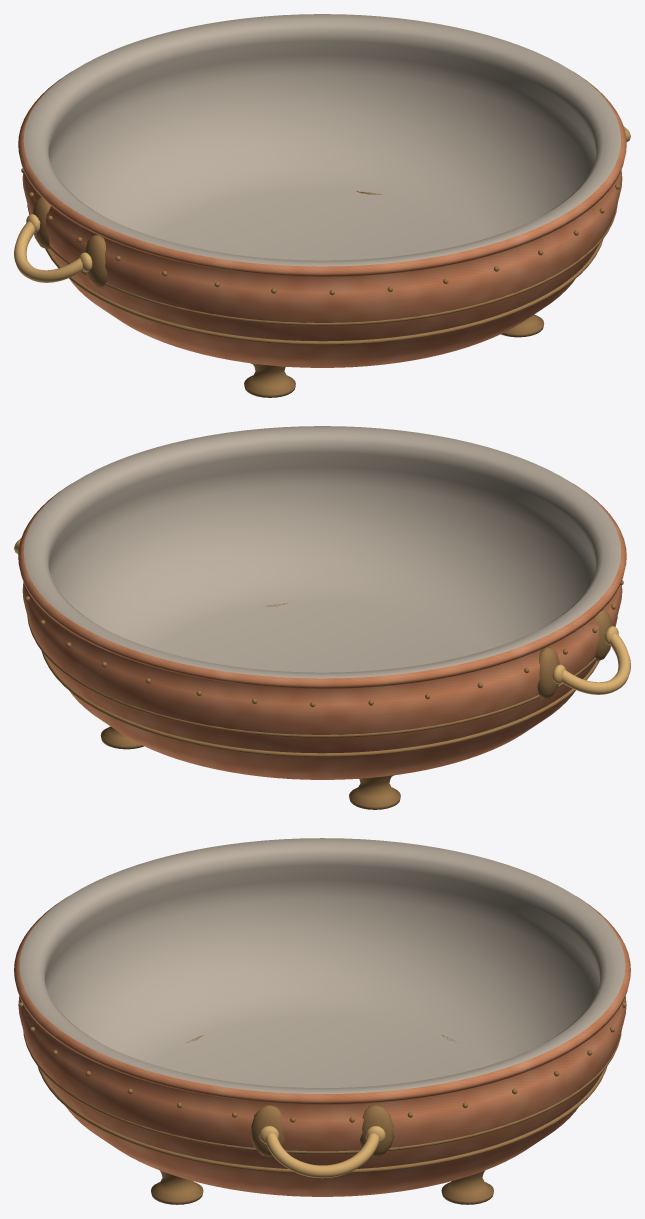
The model's file is bath-copper.glb.
3 views of the same model, one above another, from view 1: azimuth 30°, elevation 25°; view 2: azimuth 150°, elevation 25°; view 3: azimuth 270°, elevation 25° (orthographic).
Visible parts, largest first — view 1: Copper bath; view 2: Copper bath; view 3: Copper bath.
Part boxes in pixels (x1=…): Copper bath: x1=14, y1=14, x2=630, y2=397; Copper bath: x1=14, y1=426, x2=630, y2=809; Copper bath: x1=14, y1=838, x2=630, y2=1204.
Size of the model in its own units: 1.25 by 0.332 by 1.1.
Materials: 4 (1 with a texture image).
